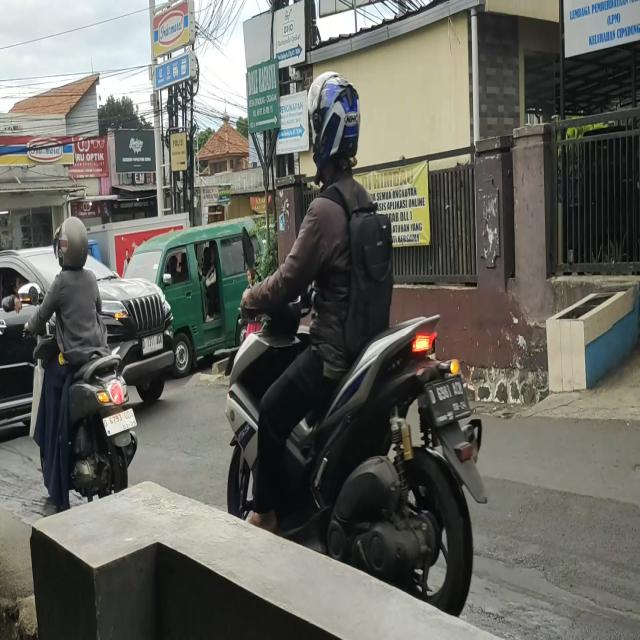helmet: (308, 78, 359, 168), (59, 216, 91, 270)
